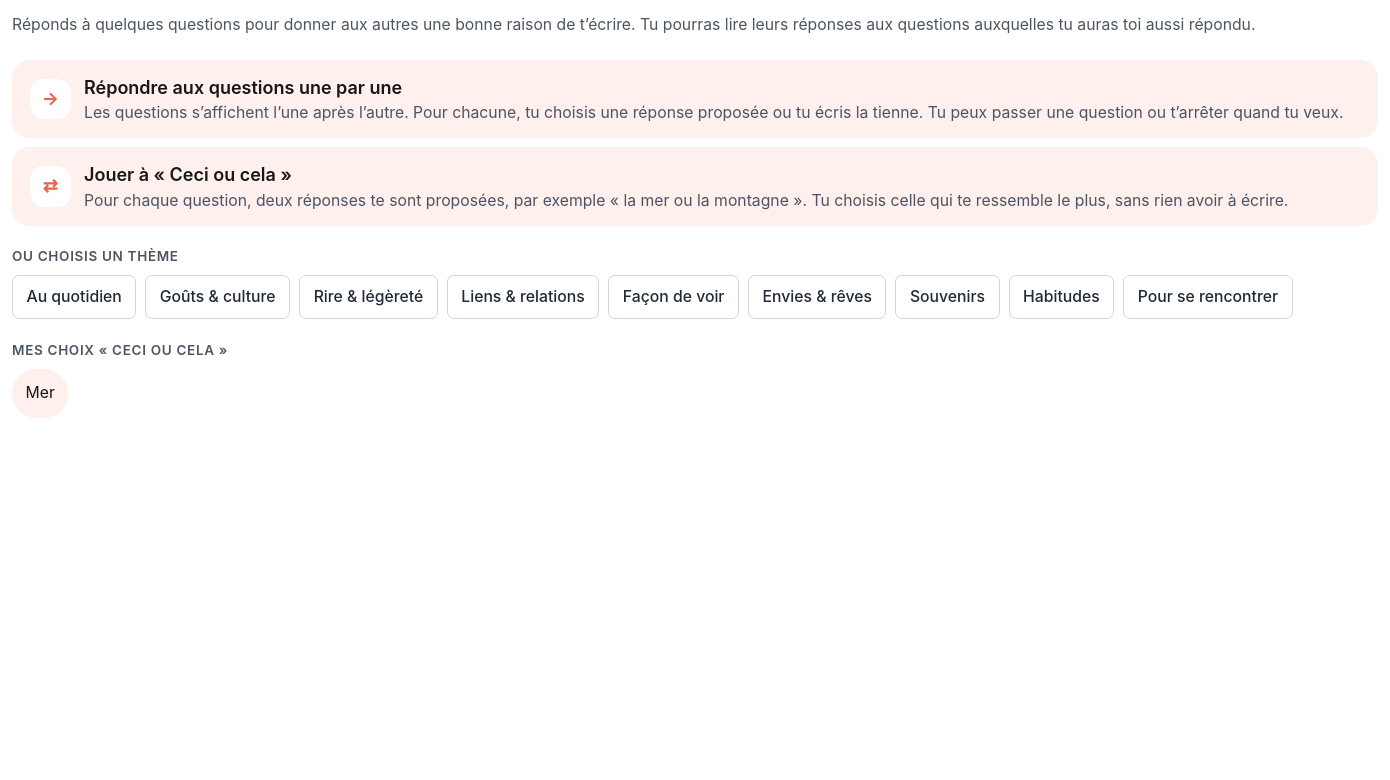
mes choix « Ceci ou cela » › se retirent
Click the button with aria-label "Mer ou montagne : Mer" at (40, 393), box [12,369,68,418]
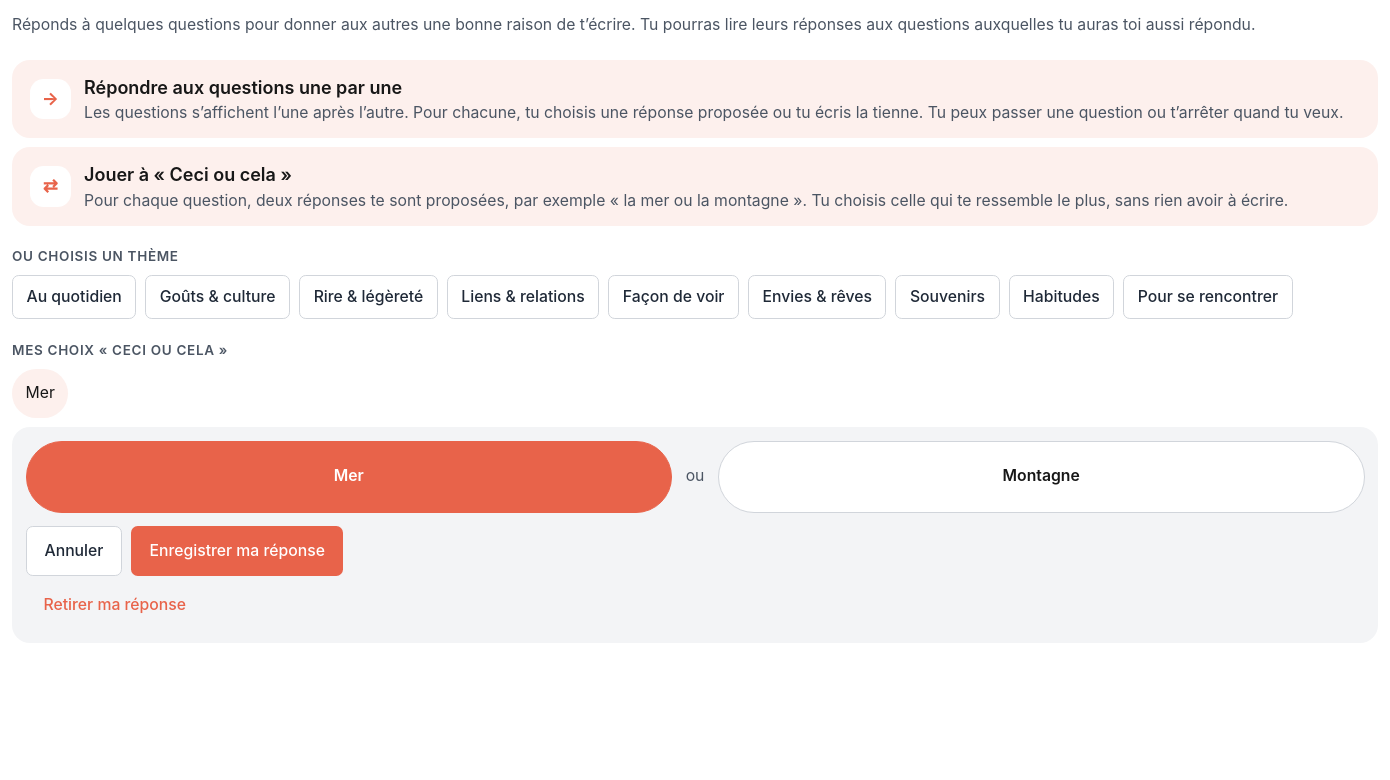
Click the button "Retirer ma réponse" at (115, 605), box [26,580,204,630]
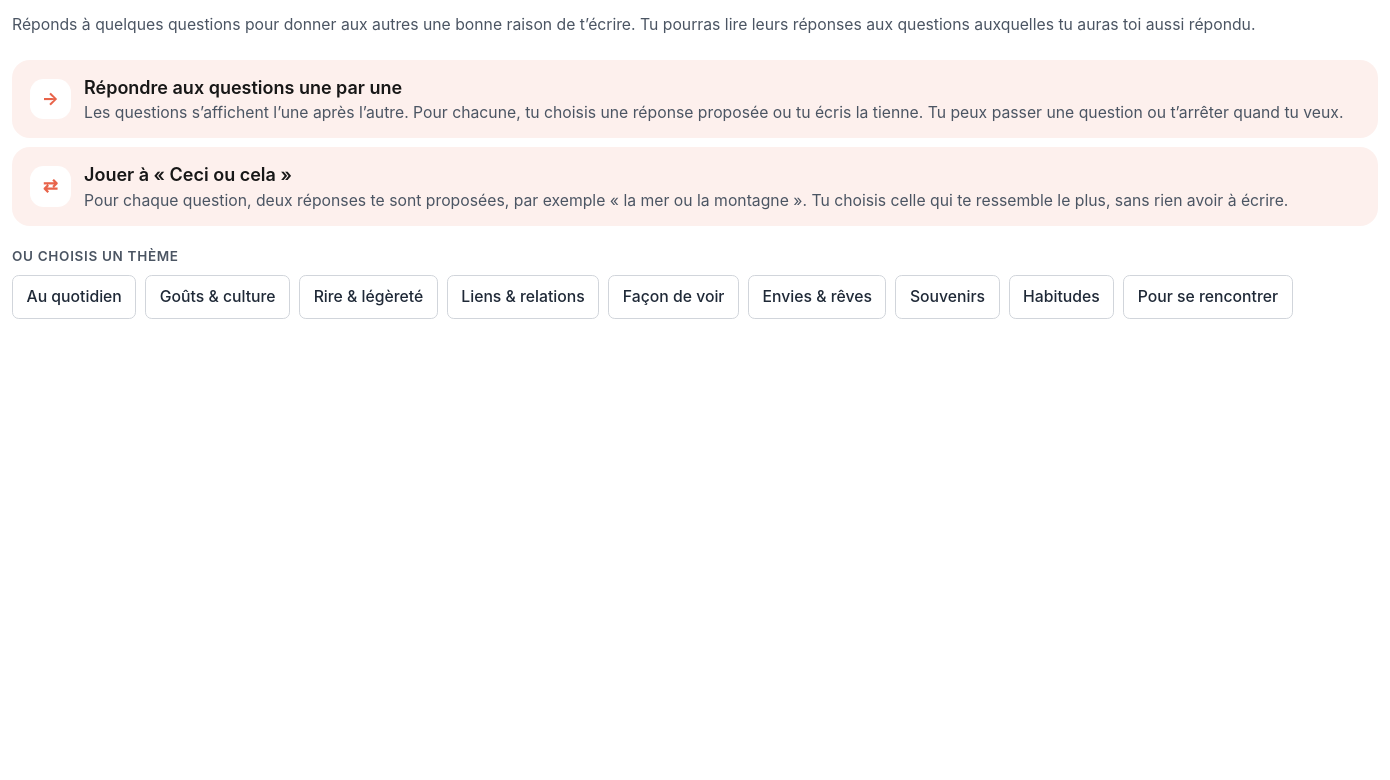
Check: the button "Mer ou Montagne" is gone
